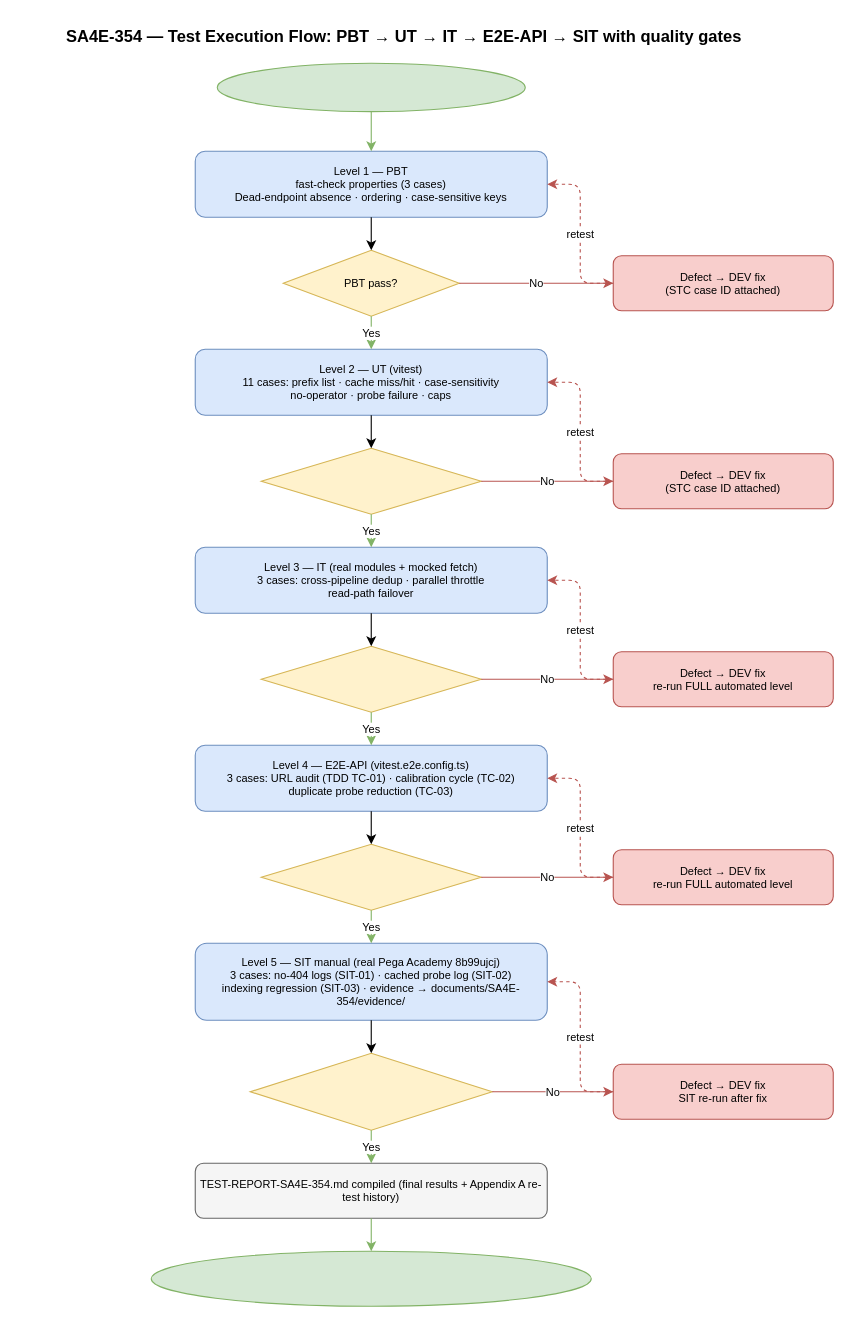
This 853x1326 diagram has some shape labels left out. The shapes that lost their labels are listed below. From the top down, each one's centre as x and y in pixels, then its label:
At point 370,87: "Start: SA4E-354 code merged (feature branch)".
At point 370,480: "UT pass? (14/14 PBT+UT green)".
At point 370,678: "IT pass? (probe counts match STC)".
At point 370,876: "E2E-API pass? (zero dead-endpoint URLs)".
At point 370,1091: "Exit criteria met? (23/23 executed · 0 Critical/Major)".
At point 370,1278: "Sign-off: BA review gate APPROVED → attach STP/STC/TEST-REPORT to Jira SA4E-354".
